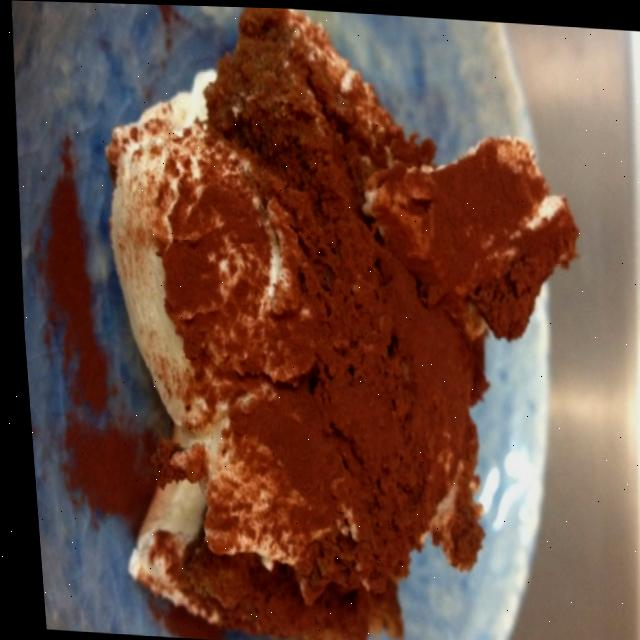蛋糕甜品: (20, 0, 609, 640)
